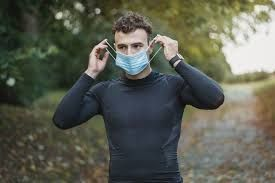with-mask: (102, 21, 172, 73)
